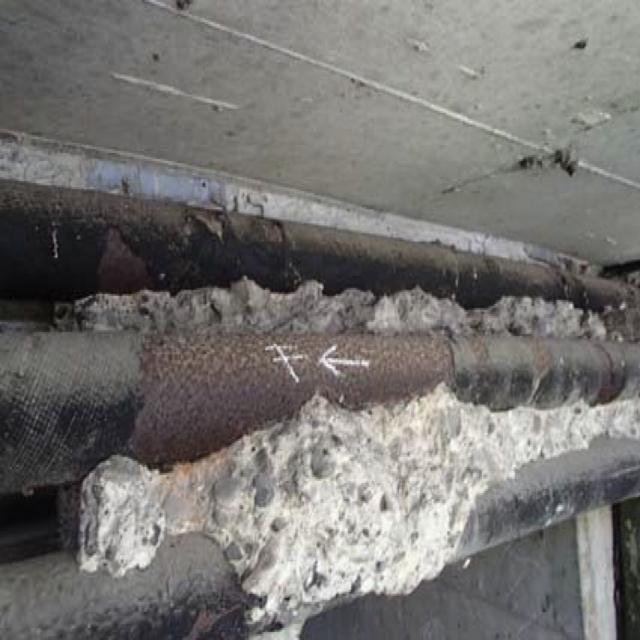corrosion: (44, 164, 637, 446)
